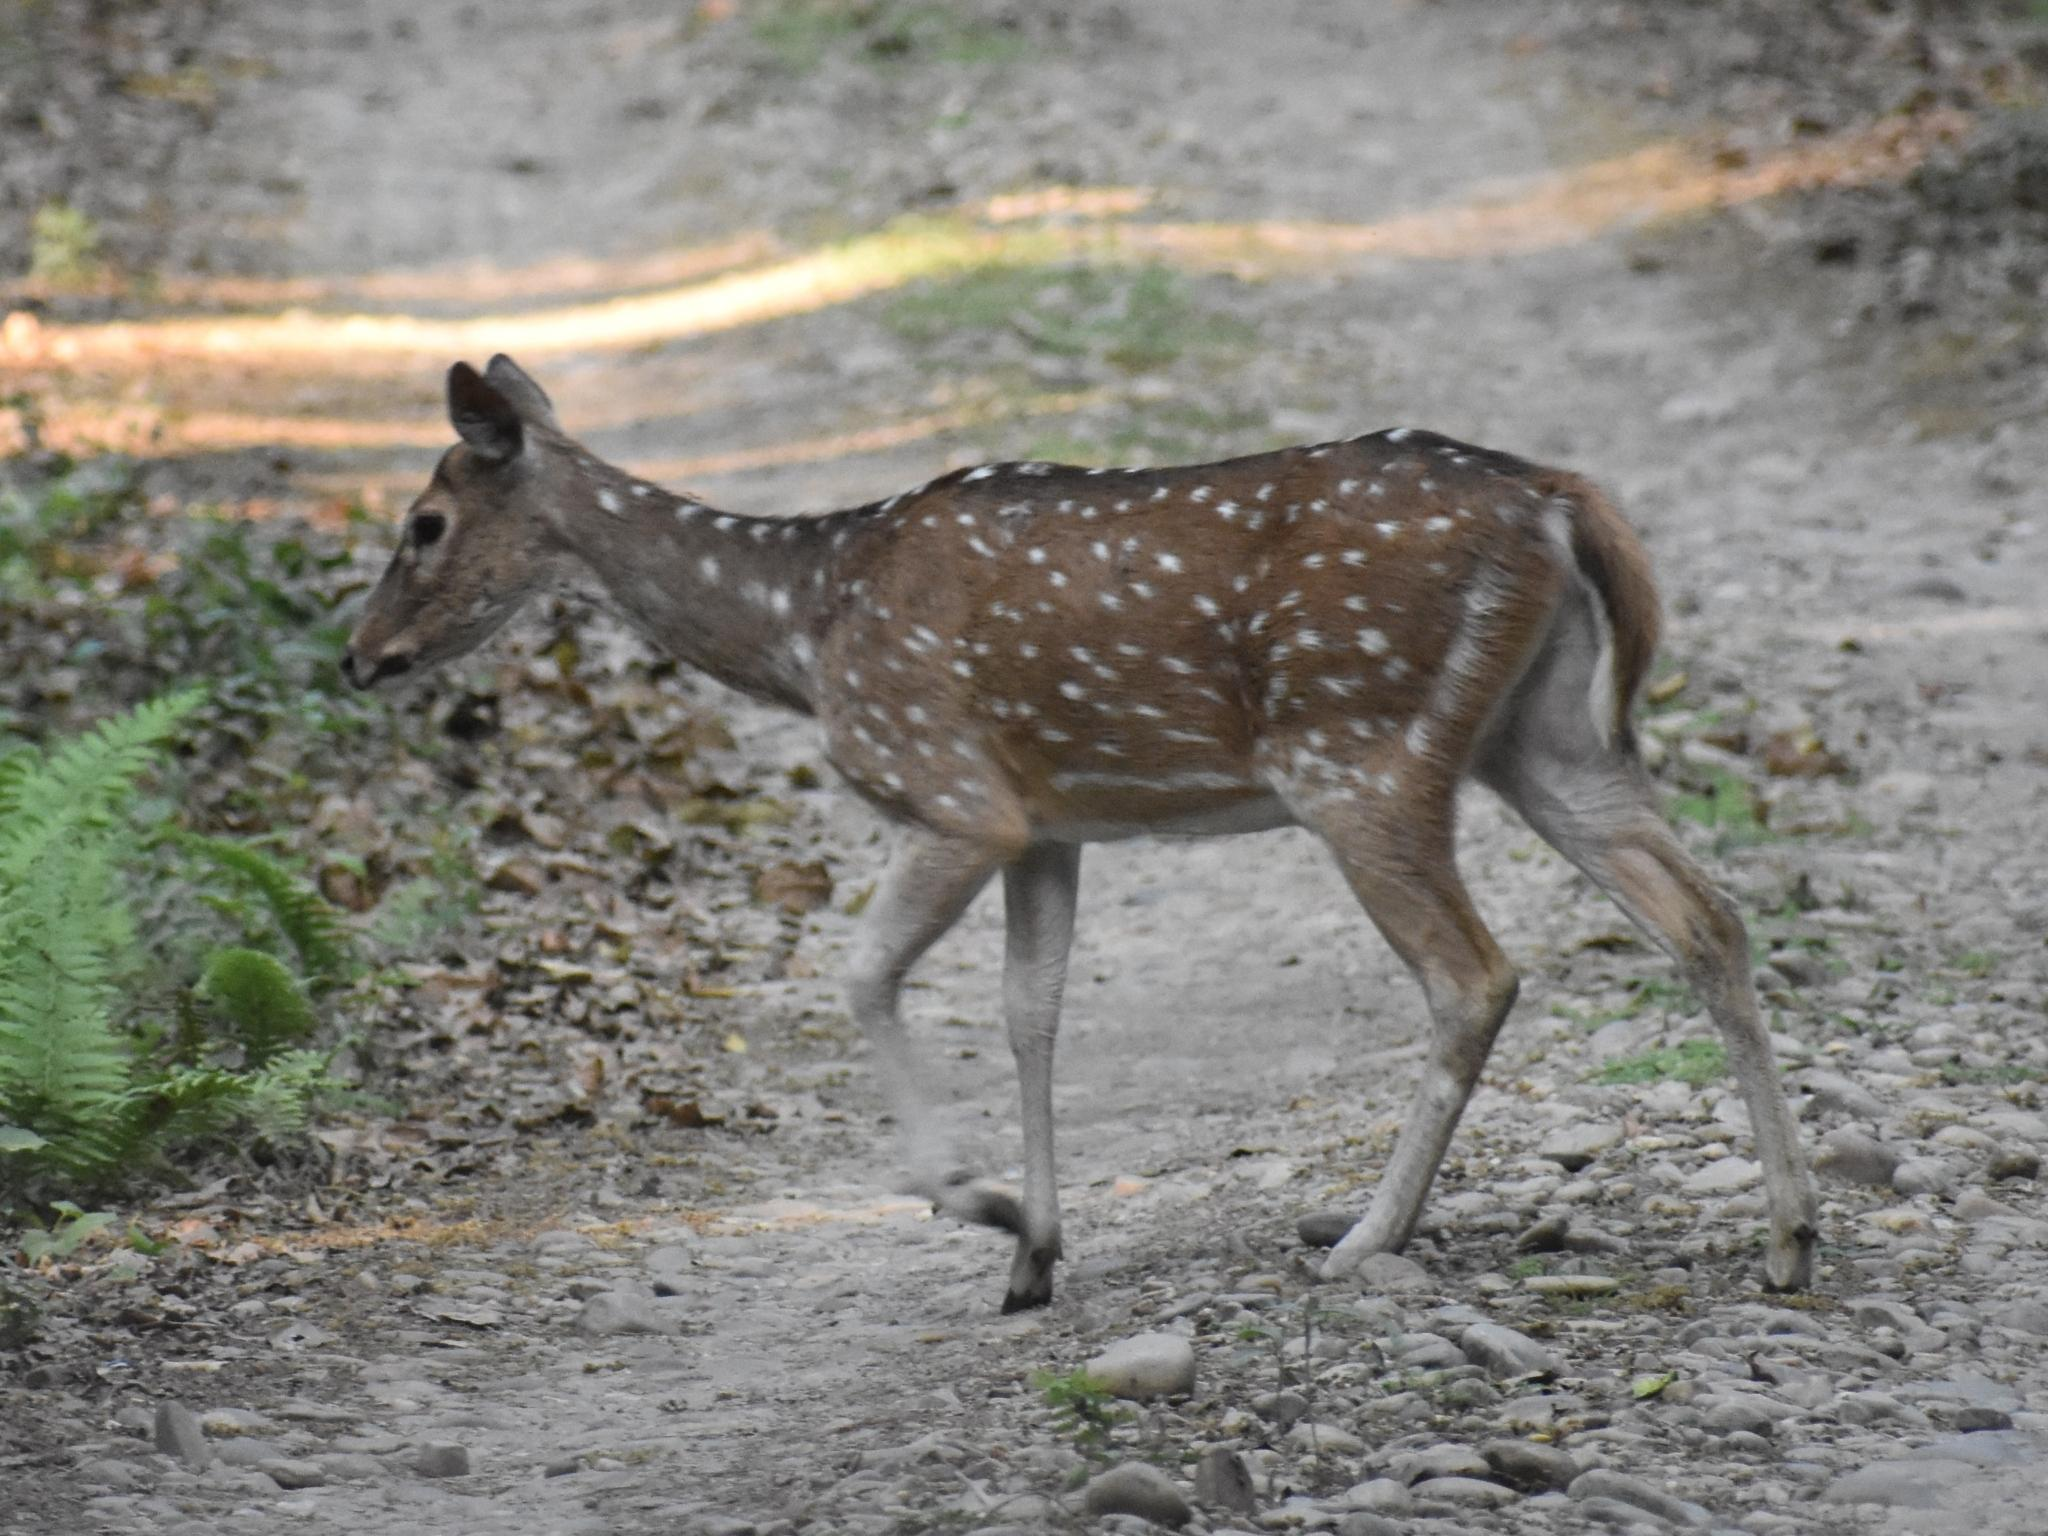Deer: (342, 357, 1816, 1310)
